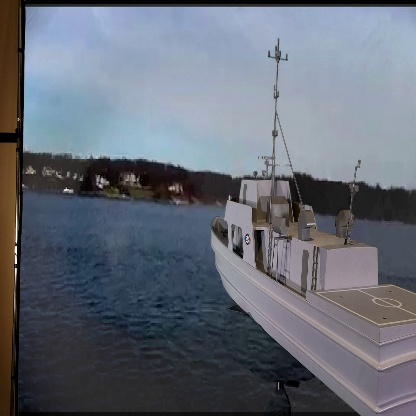YP689: (210, 37, 416, 416)
